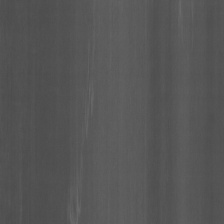silk_spot: (78, 47, 99, 142)
